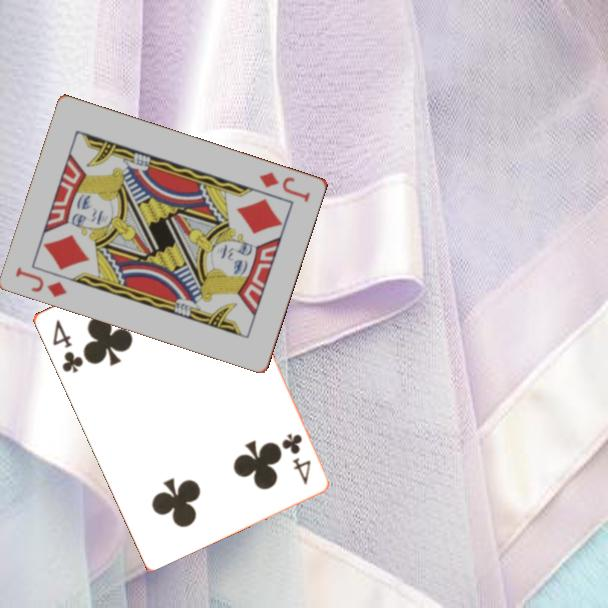c04: (48, 315, 86, 376), (278, 429, 313, 488)
d11: (256, 168, 314, 205), (12, 263, 70, 300)
